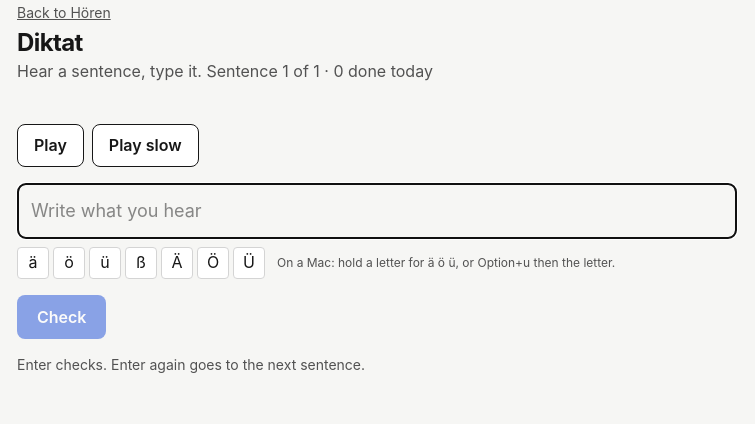
Test: Diktat › never shows the sentence before Check, shows the diff after
expect the text "Hear a sentence, type it. Sentence 1 of 1 · 0 done today" is shown: met, box top-left (17, 59), bottom-right (433, 84)
expect the text "Termin" is not shown: met
Type "Ich mochte einen termin vereinbaren" into the field labelled "Write what you hear". click: [377, 211]
box: top-left (17, 183), bottom-right (737, 239)
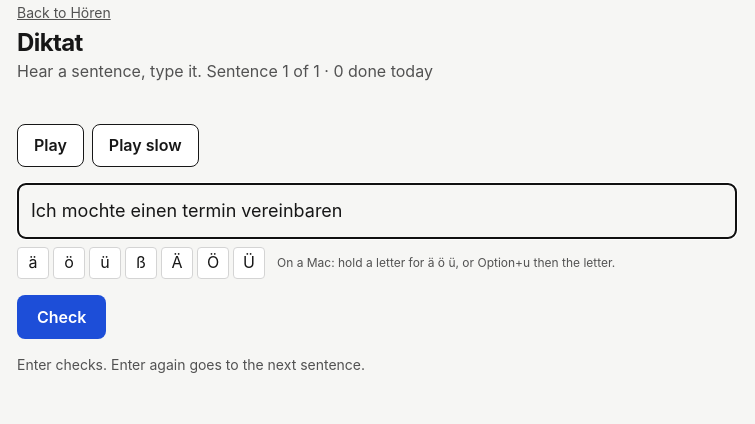
Press Enter in the field named "Write what you hear", box top-left (17, 183), bottom-right (737, 239)
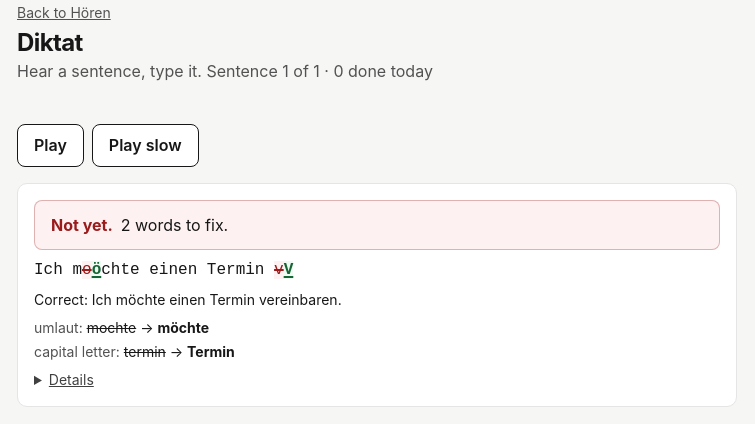
expect the text "Not yet." is shown: met, box top-left (51, 215), bottom-right (113, 235)
expect the text "2 words to fix." is shown: met, box top-left (121, 215), bottom-right (228, 235)
expect the text "60% of words right" is shown: met, box top-left (49, 371), bottom-right (94, 388)
